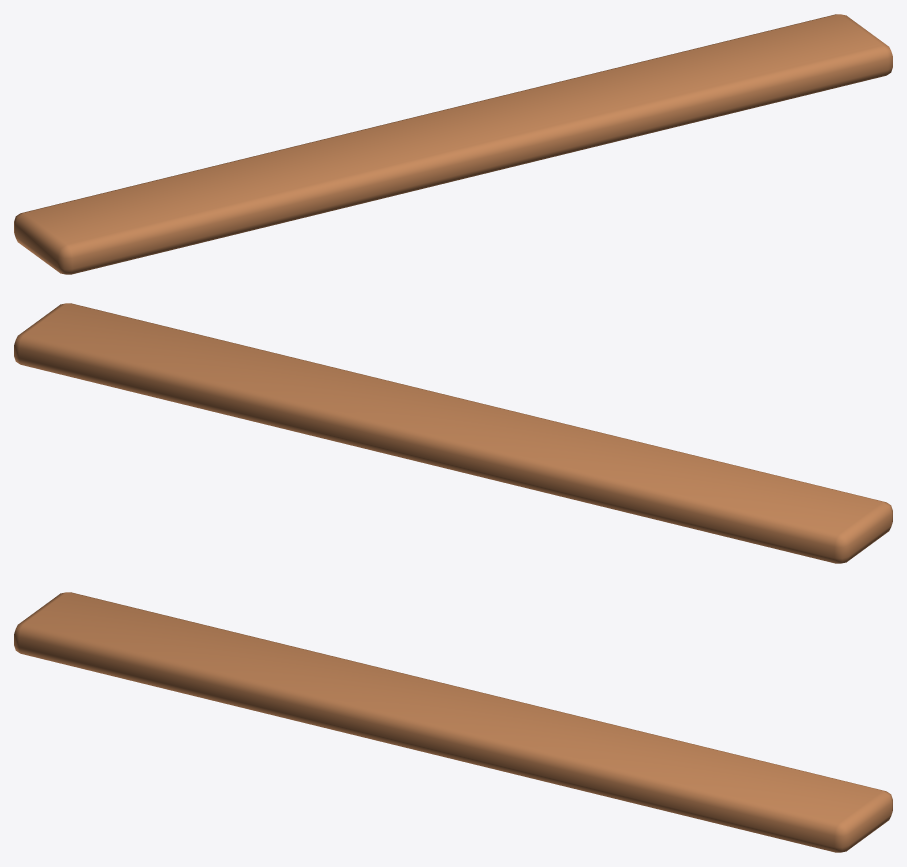
File: sp-lip.glb
The picture shows the model from 3 angles, top to bottom: view 1: azimuth 30°, elevation 25°; view 2: azimuth 150°, elevation 25°; view 3: azimuth 330°, elevation 25°; orthographic projection.
Parts seen in each view (by area): view 1: sp-lip; view 2: sp-lip; view 3: sp-lip.
Part boxes in pixels (<box>): sp-lip: <box>14,14,892,274</box>; sp-lip: <box>14,303,892,563</box>; sp-lip: <box>14,592,892,852</box>.
Size of the model in its own units: 0.72 by 0.025 by 0.08.
